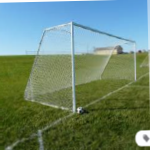goals: (23, 21, 139, 114)
